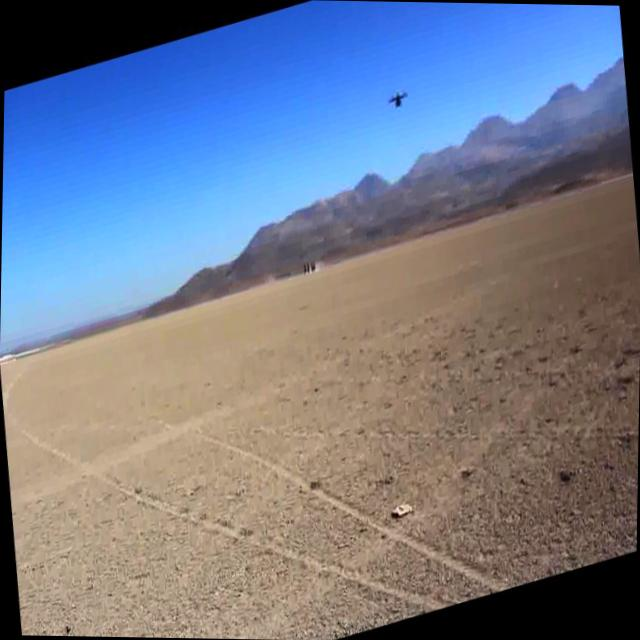drone: (381, 78, 412, 121)
